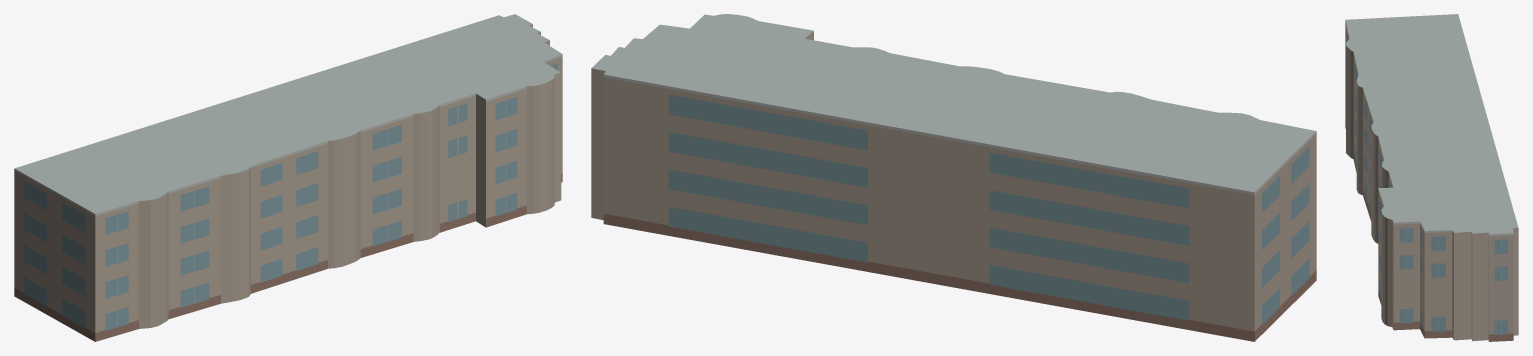
File: survey-upis-32700148.glb
3 renders of one model, left to right at view 1: azimuth 30°, elevation 25°; view 2: azimuth 150°, elevation 25°; view 3: azimuth 270°, elevation 25°, orthographic. The views are drawn at different scales.
Visible parts, largest first — view 1: survey-upis-32700148.tmp; view 2: survey-upis-32700148.tmp; view 3: survey-upis-32700148.tmp.
Part boxes in pixels (bbox=[...]): survey-upis-32700148.tmp: bbox=[14, 14, 562, 341]; survey-upis-32700148.tmp: bbox=[591, 14, 1316, 341]; survey-upis-32700148.tmp: bbox=[1345, 14, 1518, 341].
Size of the model in its own units: 58.89 by 13.4 by 19.55.
